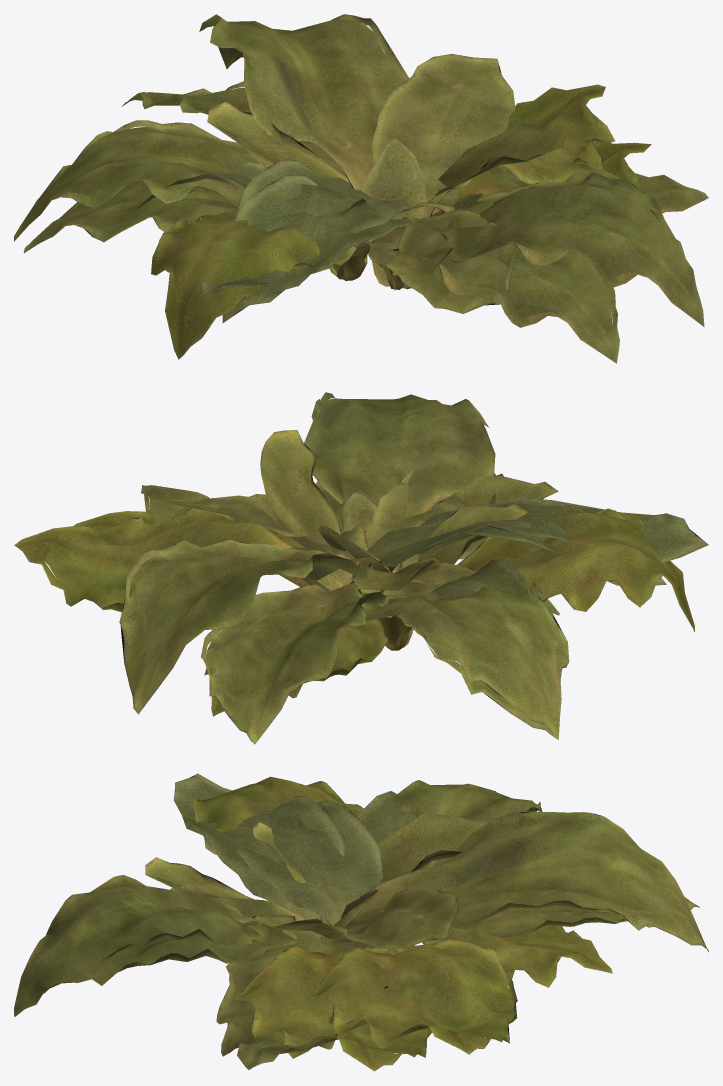
Rendered from iceplant.glb.
3 renders of one model, top to bottom at view 1: azimuth 30°, elevation 25°; view 2: azimuth 150°, elevation 25°; view 3: azimuth 270°, elevation 25°, orthographic. The views are drawn at different scales.
Parts seen in each view (by area): view 1: iceplant_v0_lod0, iceplant_v1_lod0, iceplant_v2_lod0; view 2: iceplant_v1_lod0, iceplant_v0_lod0, iceplant_v2_lod0; view 3: iceplant_v0_lod0, iceplant_v1_lod0, iceplant_v2_lod0.
Part boxes in pixels (x1,y1,x2,y2): iceplant_v0_lod0: (23, 14, 704, 327); iceplant_v1_lod0: (14, 81, 619, 363); iceplant_v2_lod0: (91, 161, 708, 359); iceplant_v1_lod0: (14, 430, 666, 744); iceplant_v0_lod0: (73, 392, 708, 739); iceplant_v2_lod0: (141, 469, 694, 716); iceplant_v0_lod0: (14, 773, 708, 1071); iceplant_v1_lod0: (43, 780, 699, 1054); iceplant_v2_lod0: (193, 776, 612, 1069).
Size of what is drawn, in the model's own units: 0.2801 by 0.0809 by 0.3151.
Materials: 1 (1 with a texture image).
